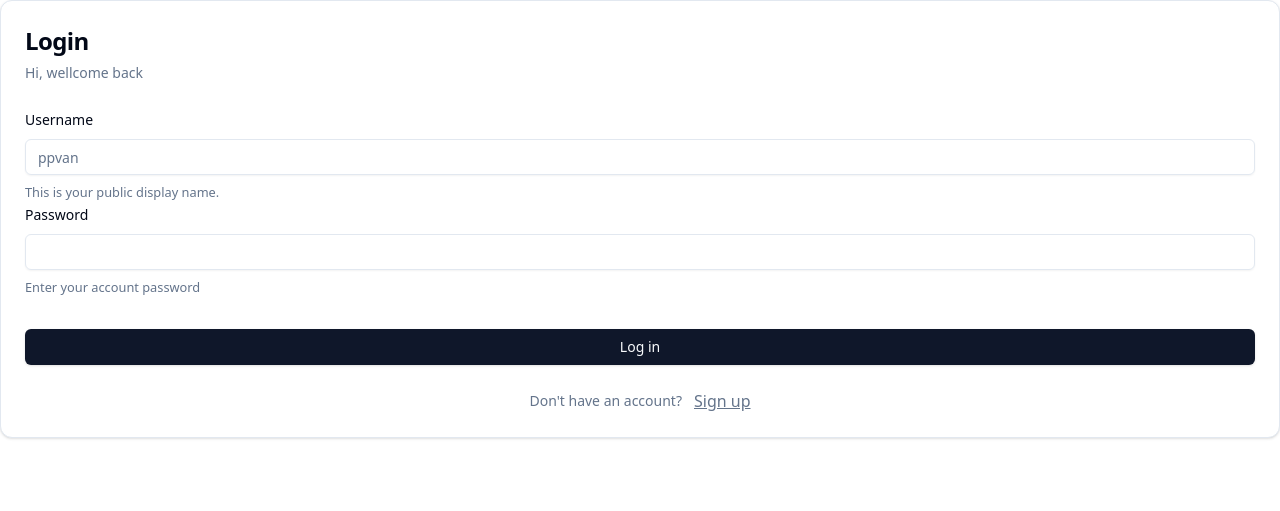
Login Component › displays validation errors for empty form submission
Click the button "Log in" at (640, 347), box x1=25 y1=329 x2=1255 y2=365
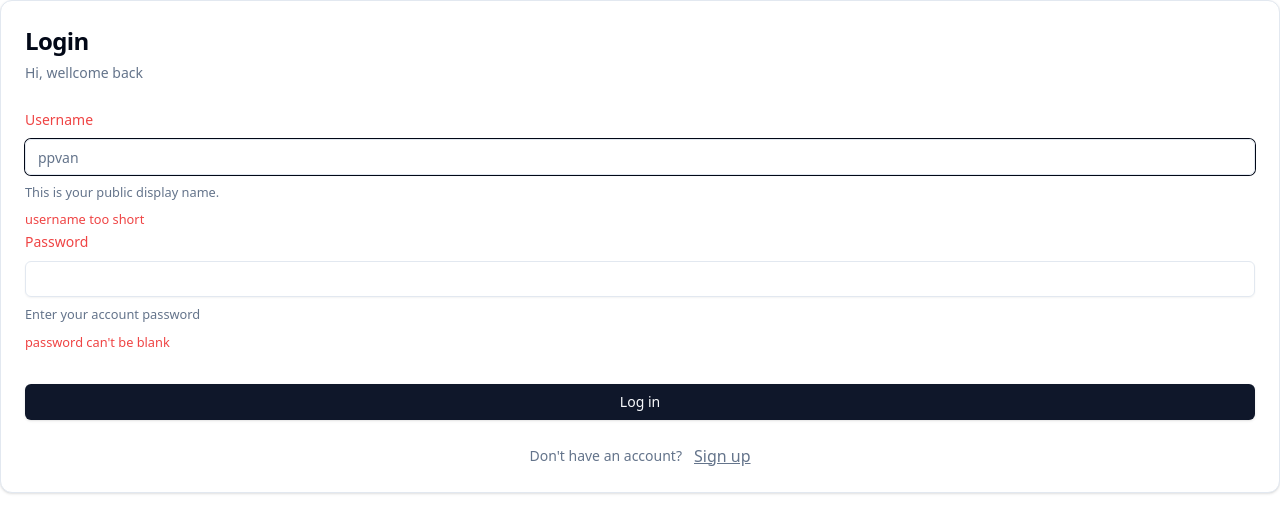
Result: the text "username too short" is shown at x1=25 y1=210 x2=144 y2=228
Result: the text "password can't be blank" is shown at x1=25 y1=333 x2=170 y2=351
